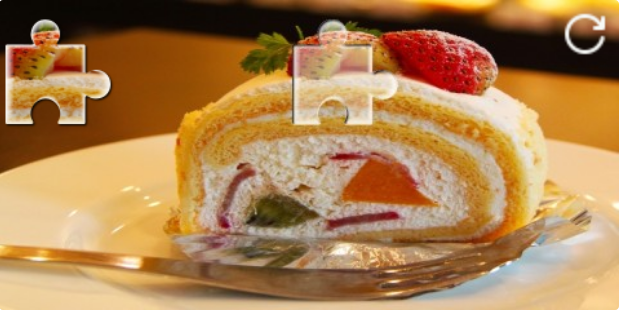target: (293, 19, 398, 125)
